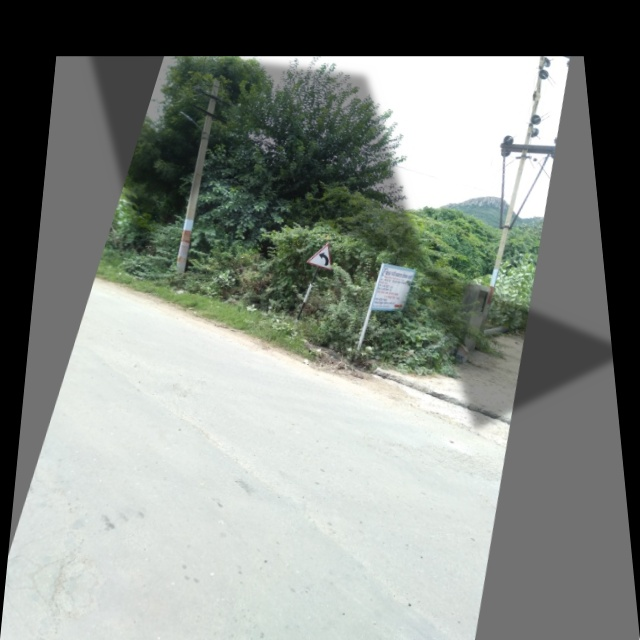Left_Hand_Curve: (305, 235, 341, 273)
